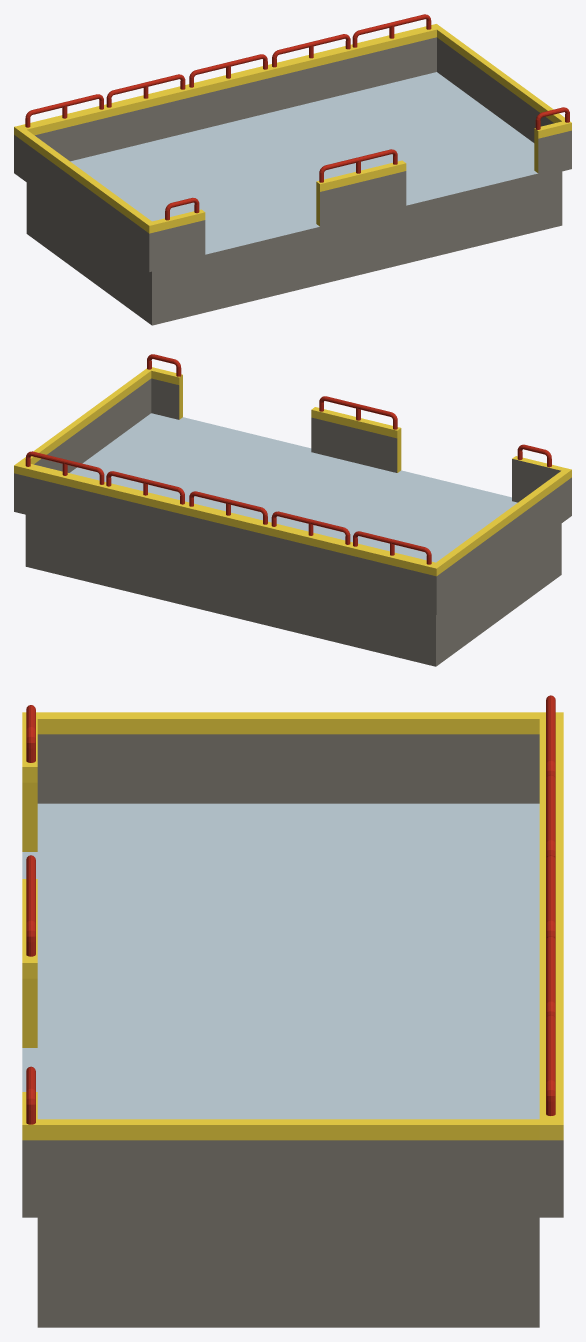
File: Turnaround.fbx
3 renders of one model, top to bottom at view 1: azimuth 30°, elevation 25°; view 2: azimuth 150°, elevation 25°; view 3: azimuth 270°, elevation 25°, orthographic. The views are drawn at different scales.
Visible parts, largest first — view 1: Exterior, Surface; view 2: Exterior, Surface; view 3: Exterior, Surface.
Part boxes in pixels (<box>): Exterior: <box>14,14,571,325</box>; Surface: <box>70,72,537,254</box>; Exterior: <box>14,354,571,666</box>; Surface: <box>69,413,517,562</box>; Exterior: <box>22,695,563,1327</box>; Surface: <box>22,803,539,1119</box>.
Size of the model in its own units: 58.69 by 15.84 by 32.56.
